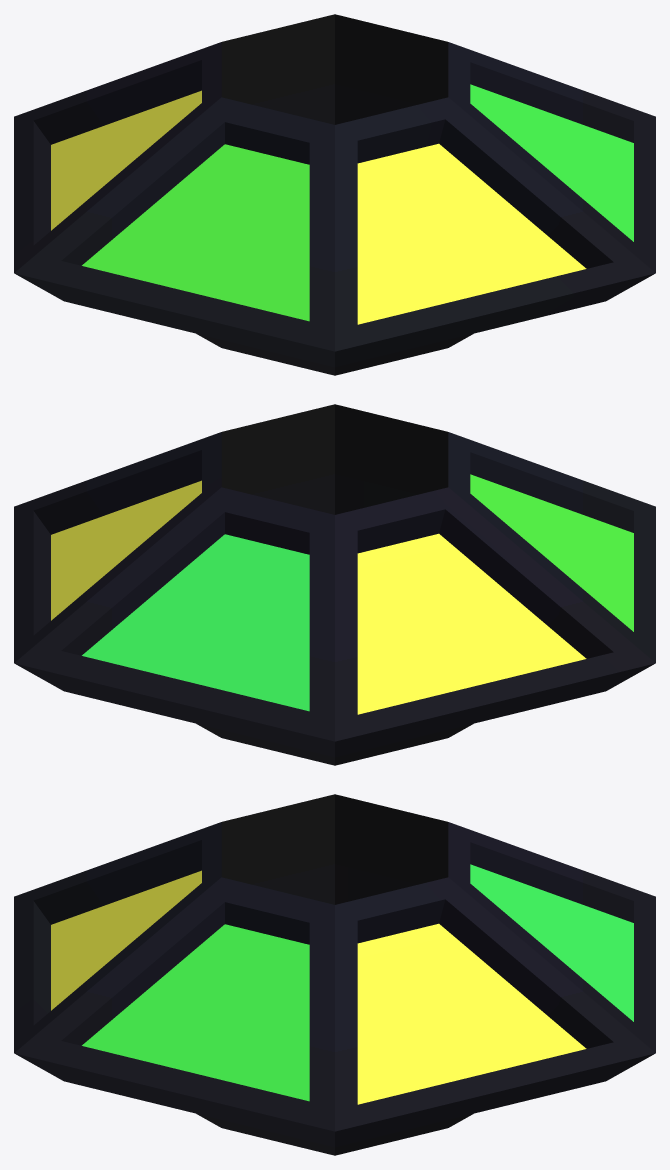
File: UFOEnemy.fbx
3 views of the same model, one above another, from view 1: azimuth 30°, elevation 25°; view 2: azimuth 150°, elevation 25°; view 3: azimuth 270°, elevation 25° (orthographic).
Parts seen in each view (by area): view 1: UfoEnemyMesh; view 2: UfoEnemyMesh; view 3: UfoEnemyMesh.
Part boxes in pixels (box(x1,y1,x2,y2)): UfoEnemyMesh: box(14, 14, 655, 375); UfoEnemyMesh: box(14, 404, 655, 765); UfoEnemyMesh: box(14, 794, 655, 1155).
Size of the model in its own units: 116 by 43.3 by 100.
